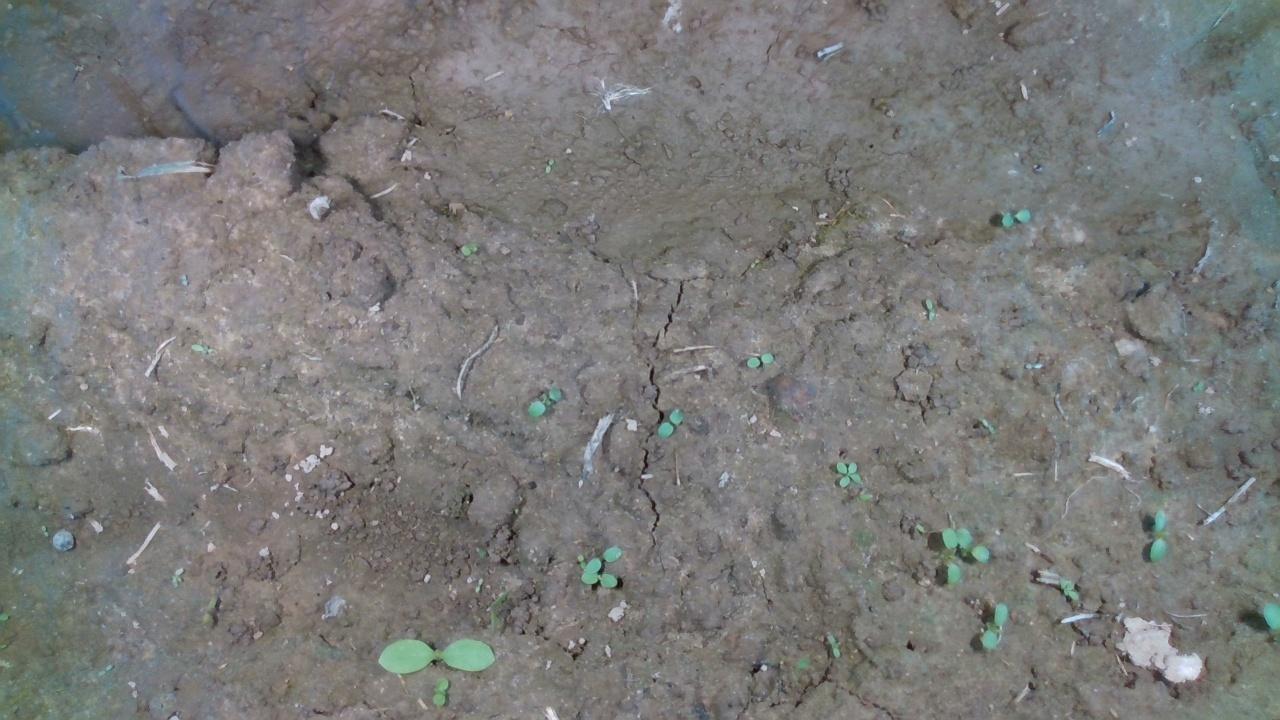weed: (653, 400, 694, 443), (830, 455, 862, 493), (428, 675, 461, 707), (745, 347, 780, 375), (999, 202, 1030, 232), (528, 387, 557, 416), (456, 238, 485, 258), (34, 522, 52, 540)
